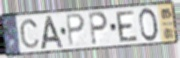A: (40, 15, 64, 50)
C: (19, 18, 41, 50)
E: (115, 10, 139, 44)
O: (138, 7, 160, 43)
P: (64, 13, 86, 48), (88, 11, 109, 46)
